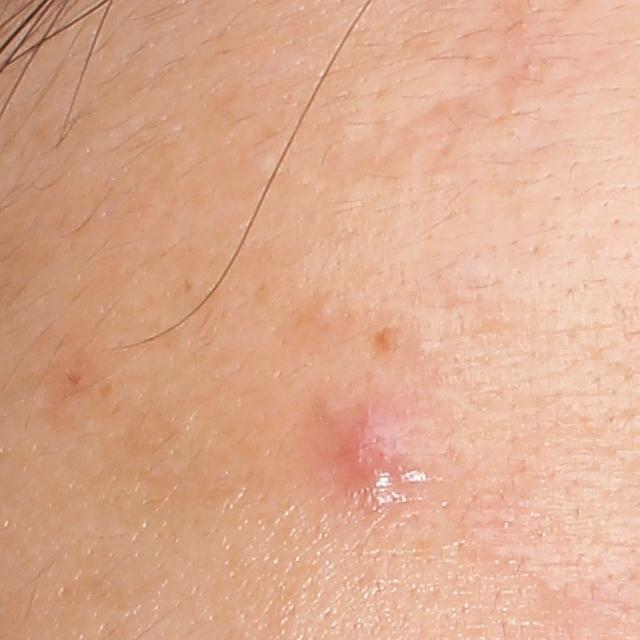comedo: (304, 292, 344, 330)
papule: (338, 406, 417, 494)
